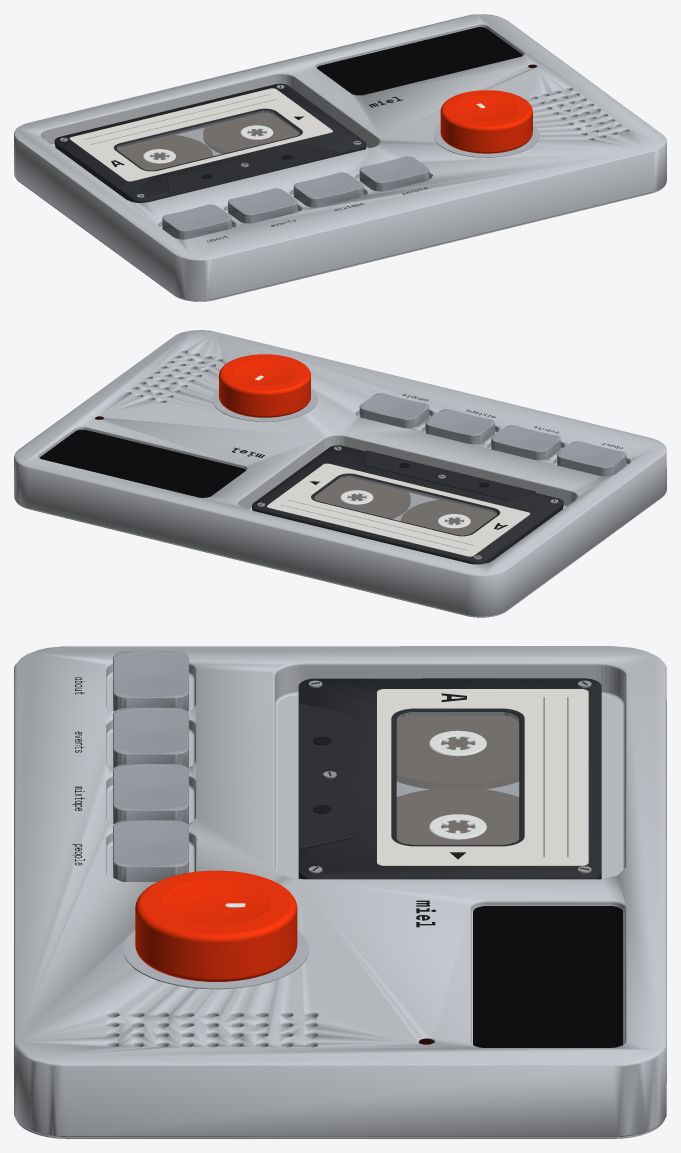
The model's file is device.glb.
3 renders of one model, top to bottom at view 1: azimuth 30°, elevation 25°; view 2: azimuth 150°, elevation 25°; view 3: azimuth 270°, elevation 25°, orthographic. The views are drawn at different scales.
Visible parts, largest first — view 1: Body, A_Plate, OLEDGlass, A_Label, A_Glass, Knob, A_Trap, PackR, PackL, Key2, Key3, Key0 (+3 smaller); view 2: Body, A_Plate, OLEDGlass, A_Label, A_Glass, Knob, A_Trap, PackR, PackL, Key3, Key0, Key2 (+3 smaller); view 3: Body, OLEDGlass, A_Plate, A_Label, A_Glass, Knob, PackL, A_Trap, PackR, Key3, Key1, Key0 (+5 smaller).
Part boxes in pixels (x1=…): Body: x1=14, y1=14, x2=666, y2=300; A_Plate: x1=54, y1=83, x2=366, y2=202; OLEDGlass: x1=317, y1=27, x2=522, y2=95; A_Label: x1=69, y1=88, x2=332, y2=181; A_Glass: x1=117, y1=111, x2=299, y2=170; Knob: x1=440, y1=90, x2=532, y2=153; A_Trap: x1=167, y1=144, x2=338, y2=193; PackR: x1=203, y1=113, x2=298, y2=153; PackL: x1=117, y1=135, x2=212, y2=170; Key2: x1=293, y1=172, x2=363, y2=207; Key3: x1=359, y1=156, x2=429, y2=191; Key0: x1=162, y1=204, x2=231, y2=239; Body: x1=14, y1=330, x2=666, y2=616; A_Plate: x1=252, y1=445, x2=563, y2=564; OLEDGlass: x1=39, y1=429, x2=245, y2=497; A_Label: x1=267, y1=463, x2=529, y2=556; A_Glass: x1=314, y1=476, x2=496, y2=535; Knob: x1=219, y1=354, x2=310, y2=417; A_Trap: x1=364, y1=450, x2=535, y2=500; PackR: x1=315, y1=478, x2=410, y2=518; PackL: x1=400, y1=500, x2=496, y2=535; Key3: x1=359, y1=393, x2=429, y2=428; Key0: x1=557, y1=441, x2=626, y2=476; Key2: x1=425, y1=409, x2=494, y2=444; Body: x1=14, y1=646, x2=666, y2=1137; OLEDGlass: x1=473, y1=906, x2=623, y2=1047; A_Plate: x1=298, y1=678, x2=601, y2=879; A_Label: x1=377, y1=689, x2=588, y2=865; A_Glass: x1=397, y1=712, x2=518, y2=844; Knob: x1=135, y1=870, x2=297, y2=981; PackL: x1=396, y1=717, x2=519, y2=789; A_Trap: x1=298, y1=703, x2=353, y2=849; PackR: x1=396, y1=787, x2=519, y2=844; Key3: x1=113, y1=820, x2=188, y2=881; Key1: x1=113, y1=707, x2=188, y2=767; Key0: x1=113, y1=651, x2=188, y2=711.
Bounding box in the file's own units: 7.6 × 1.12 × 5.
